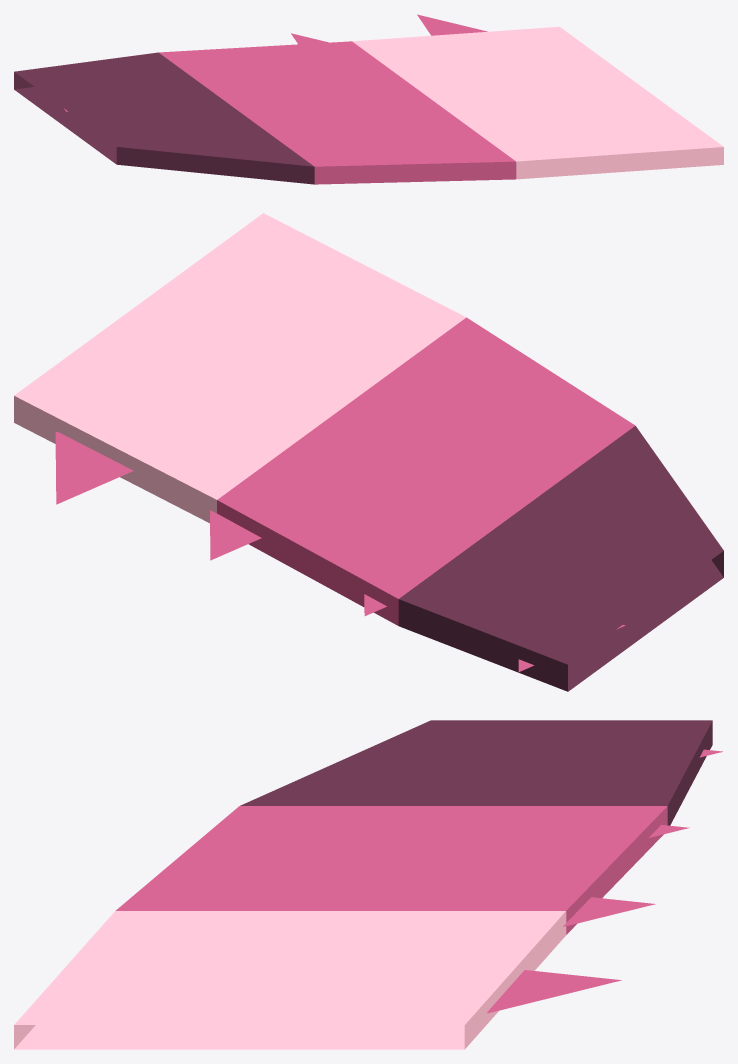
The model's file is sky_hawk_wing_l.glb.
3 views of the same model, one above another, from view 1: azimuth 30°, elevation 25°; view 2: azimuth 150°, elevation 25°; view 3: azimuth 270°, elevation 25° (orthographic). The views are drawn at different scales.
Parts seen in each view (by area): view 1: hawk; view 2: hawk; view 3: hawk.
Part boxes in pixels (bbox=[...]): hawk: bbox=[14, 14, 723, 184]; hawk: bbox=[14, 213, 723, 691]; hawk: bbox=[14, 720, 722, 1049].
Bounding box in the file's own units: 3.2 × 0.12 × 3.15.
